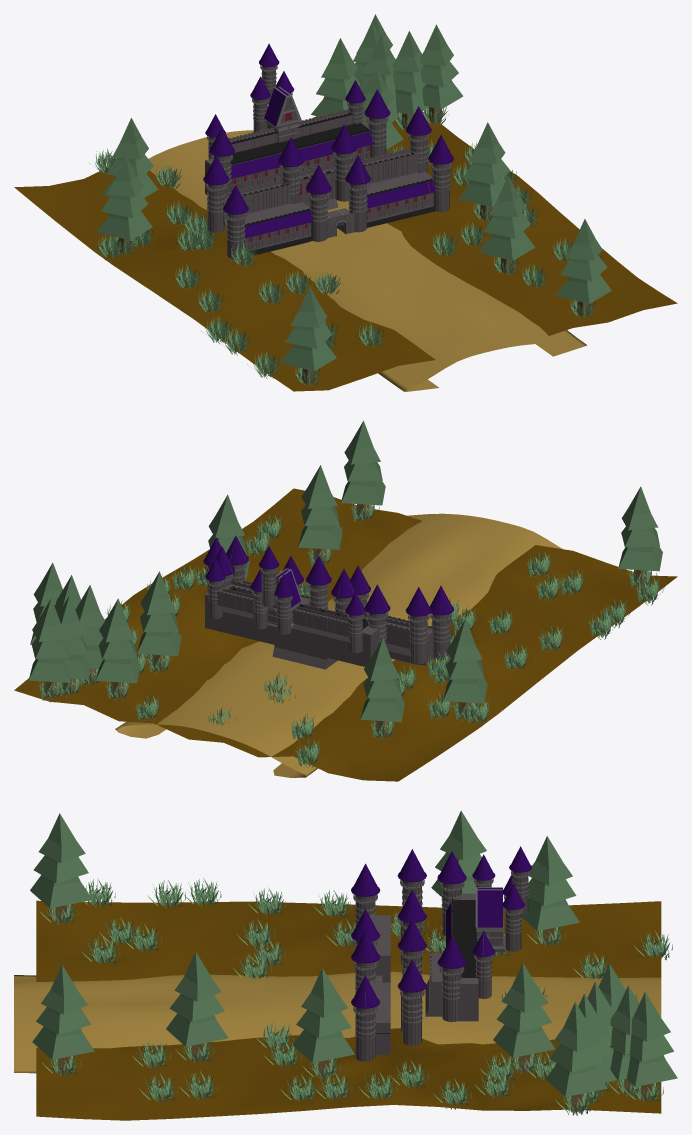
Rendered from 魔王城外観4.fbx.
The picture shows the model from 3 angles, top to bottom: view 1: azimuth 30°, elevation 25°; view 2: azimuth 150°, elevation 25°; view 3: azimuth 270°, elevation 25°; orthographic projection. The views are drawn at different scales.
Visible parts, largest first — view 1: 平面, Cube.003, 平面.001; view 2: 平面, 平面.001, Cube.003; view 3: 平面, 平面.001, Cube.003.
Boxes of the visible parts, bbox=[...] form: 平面: bbox=[14, 14, 677, 391]; Cube.003: bbox=[203, 43, 453, 259]; 平面.001: bbox=[148, 130, 586, 391]; 平面: bbox=[14, 421, 677, 781]; 平面.001: bbox=[115, 513, 562, 777]; Cube.003: bbox=[203, 535, 453, 669]; 平面: bbox=[30, 810, 677, 1120]; 平面.001: bbox=[14, 971, 661, 1073]; Cube.003: bbox=[351, 846, 532, 1061].
Size of the model in its own units: 8810 by 3439 by 10722.
